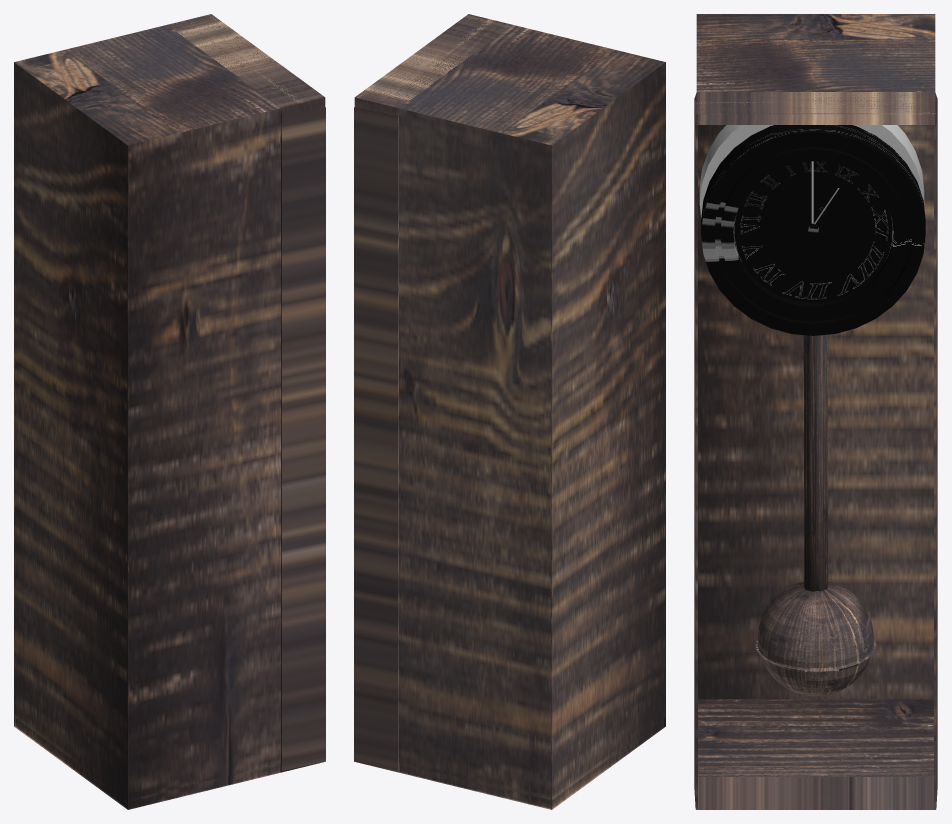
The model's file is pendent-clock.obj.
3 views of the same model, side by side, from view 1: azimuth 30°, elevation 25°; view 2: azimuth 150°, elevation 25°; view 3: azimuth 270°, elevation 25° (orthographic). The views are drawn at different scales.
Visible parts, largest first — view 1: Cube; view 2: Cube; view 3: Cube, Cylinder, Cylinder.001.
Boxes of the visible parts, x1,y1,x2,y2 form: Cube: (14, 14, 325, 809); Cube: (354, 14, 665, 809); Cube: (694, 14, 937, 809); Cylinder: (701, 125, 925, 335); Cylinder.001: (699, 125, 924, 217).
Size of the model in its own units: 2 by 6.43 by 2.04.
5 materials, 2 textured.
